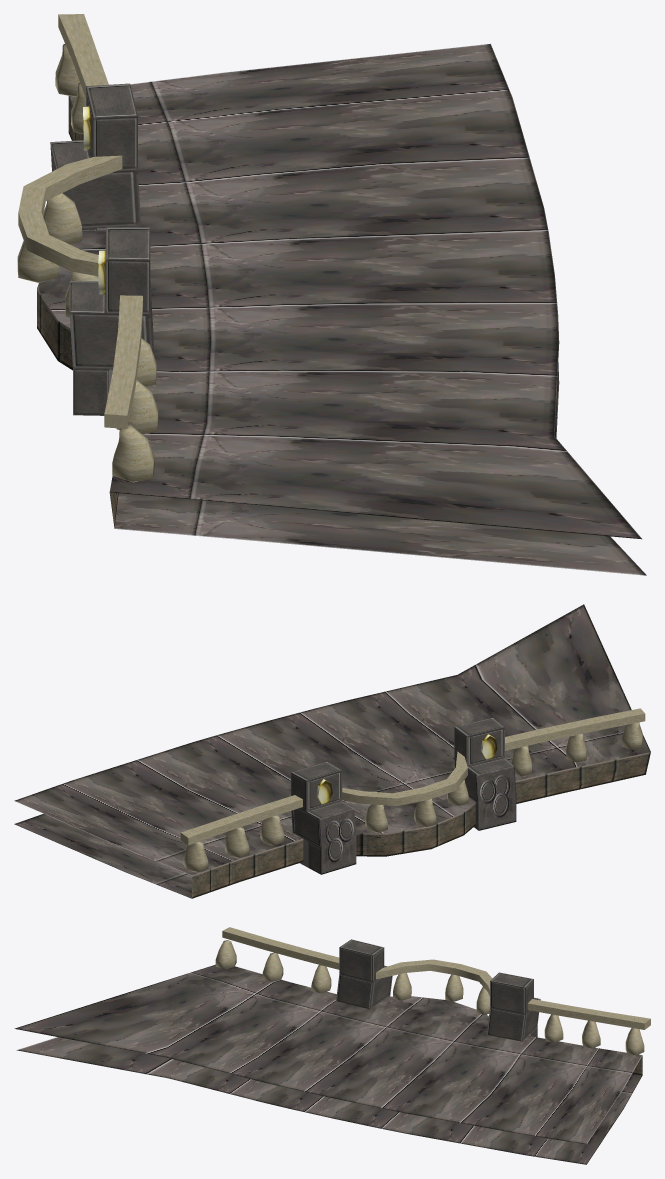
The model's file is CH09_SMAUG_PLAYSURFACE_LAIR31.fbx.
3 renders of one model, top to bottom at view 1: azimuth 30°, elevation 25°; view 2: azimuth 150°, elevation 25°; view 3: azimuth 270°, elevation 25°, orthographic. The views are drawn at different scales.
Parts seen in each view (by area): view 1: CH09_SMAUG_PLAYSURFACE_LAIR31; view 2: CH09_SMAUG_PLAYSURFACE_LAIR31; view 3: CH09_SMAUG_PLAYSURFACE_LAIR31.
Boxes of the visible parts, bbox=[...] form: CH09_SMAUG_PLAYSURFACE_LAIR31: bbox=[17, 14, 646, 575]; CH09_SMAUG_PLAYSURFACE_LAIR31: bbox=[14, 604, 650, 898]; CH09_SMAUG_PLAYSURFACE_LAIR31: bbox=[14, 927, 650, 1164].
Bounding box in the file's own units: 117610 × 23218 × 174025.
5 materials, 5 textured.
